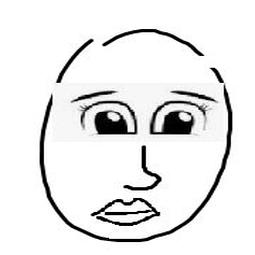cupid_mouth: (88, 193, 161, 228)
eye: (75, 98, 142, 140), (144, 98, 213, 138)
eyebrow: (68, 88, 128, 102), (171, 90, 219, 105)
nose: (115, 141, 168, 196)
